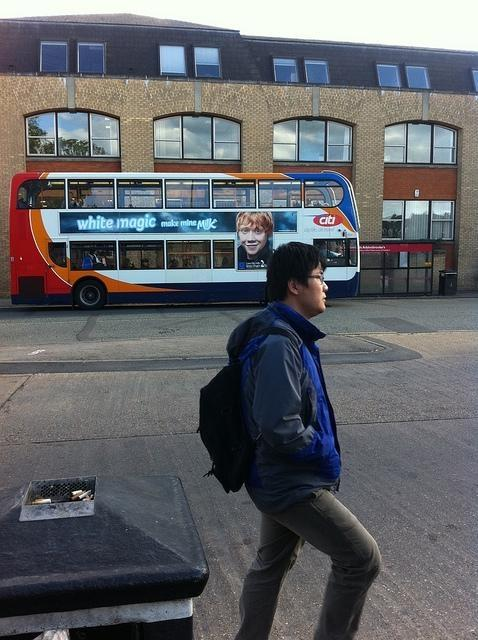bus: (8, 169, 360, 311)
